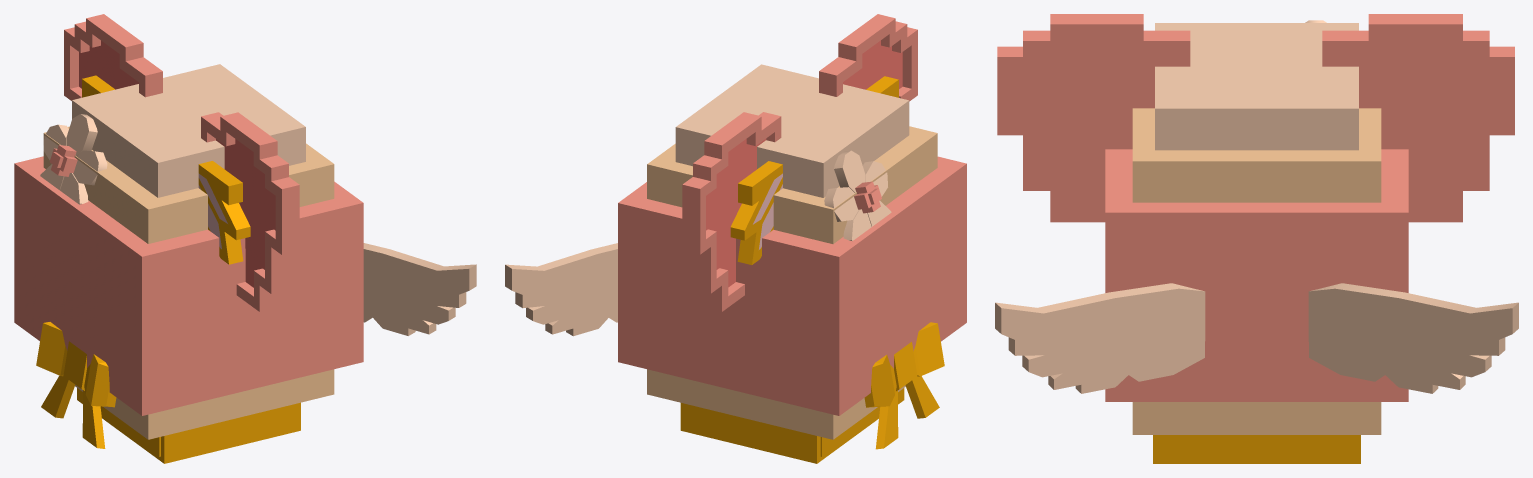
The model's file is egg_dumbo.obj.
3 views of the same model, side by side, from view 1: azimuth 30°, elevation 25°; view 2: azimuth 150°, elevation 25°; view 3: azimuth 270°, elevation 25° (orthographic). The views are drawn at different scales.
Visible parts, largest first — view 1: E3, E2U, E1U, E2D, E1D; view 2: E3, E2U, E1U, E2D, E1D; view 3: E3, E2U, E1U, E2D, E1D.
Part boxes in pixels (x1,y1,x2,y2): E3: (14,156,476,448); E2U: (40,14,334,311); E1U: (72,64,305,197); E2D: (75,369,334,439); E1D: (77,388,300,463); E3: (505,156,966,449); E2U: (647,14,937,311); E1U: (675,64,909,197); E2D: (647,369,905,439); E1D: (680,388,904,463); E3: (995,149,1518,401); E2U: (997,14,1514,222); E1U: (1155,23,1358,150); E2D: (1132,402,1381,434); E1D: (1153,435,1360,463).
Bounding box in the file's own units: 8.58 × 9.07 × 10.74.
